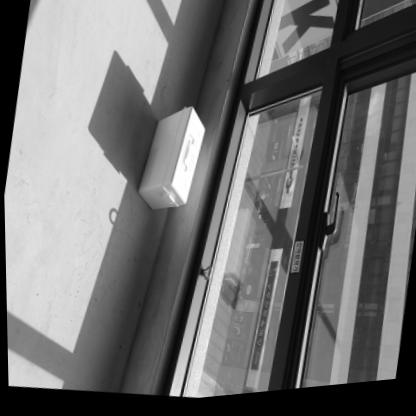DDL: (133, 101, 209, 221)
